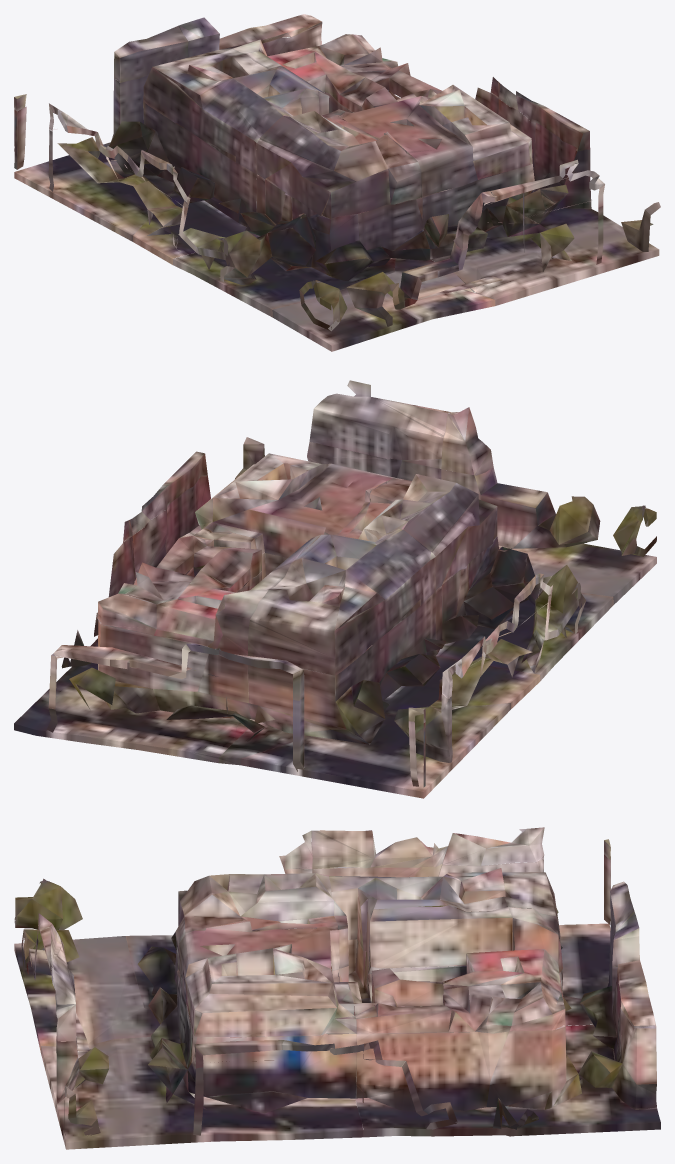
3 views of the same model, one above another, from view 1: azimuth 30°, elevation 25°; view 2: azimuth 150°, elevation 25°; view 3: azimuth 270°, elevation 25° (orthographic). The views are drawn at different scales.
Parts seen in each view (by area): view 1: Mesh_0; view 2: Mesh_0; view 3: Mesh_0.
Part boxes in pixels (x1,y1,x2,y2): Mesh_0: (14, 14, 660, 351); Mesh_0: (14, 380, 656, 798); Mesh_0: (14, 827, 660, 1149).
Size of the model in its own units: 134 by 41.29 by 165.
Materials: 1 (1 with a texture image).
